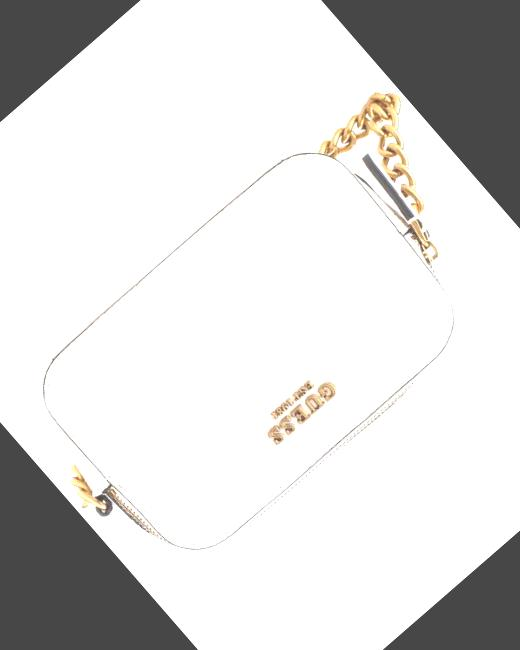GUESS: (265, 378, 339, 446)
